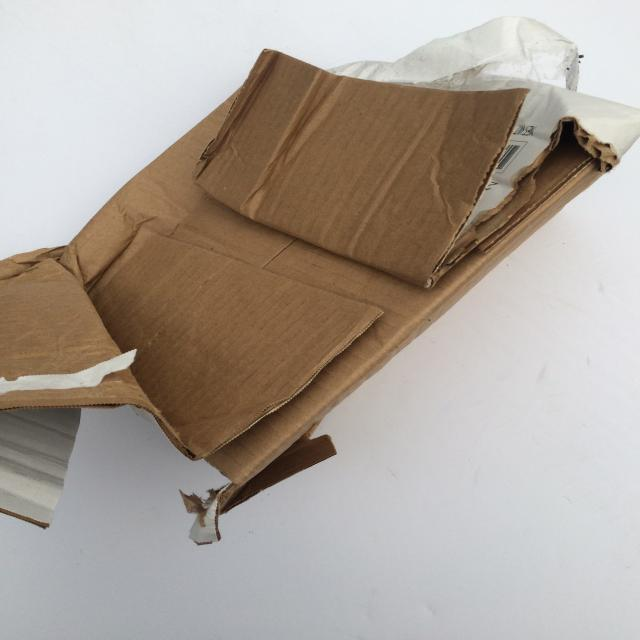cardboard: (0, 11, 640, 568)
